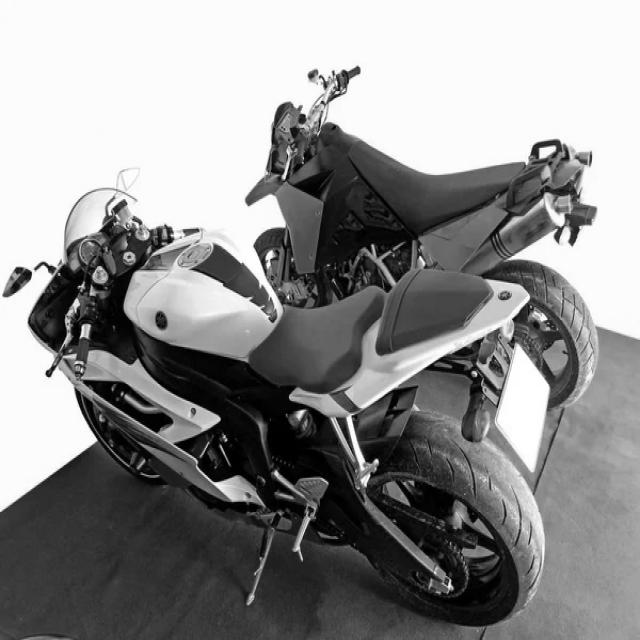Motorcycle: (29, 189, 550, 625), (246, 67, 600, 409)
